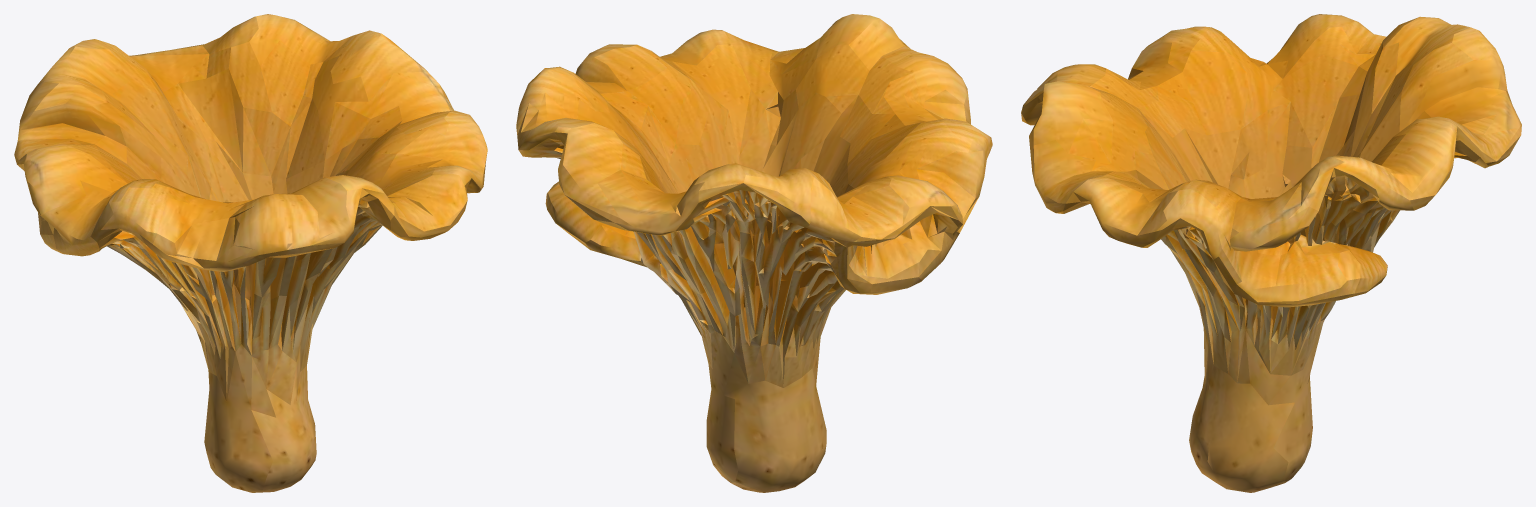
Rendered from yumurta.glb.
The picture shows the model from 3 angles, left to right: view 1: azimuth 30°, elevation 25°; view 2: azimuth 150°, elevation 25°; view 3: azimuth 270°, elevation 25°; orthographic projection. The views are drawn at different scales.
Parts seen in each view (by area): view 1: output_unwrapped; view 2: output_unwrapped; view 3: output_unwrapped.
Part boxes in pixels (bbox=[...]): output_unwrapped: bbox=[14, 14, 487, 492]; output_unwrapped: bbox=[516, 14, 992, 492]; output_unwrapped: bbox=[1021, 14, 1521, 492].
Size of the model in its own units: 1.9 by 1.73 by 1.89.
1 material, 1 textured.
